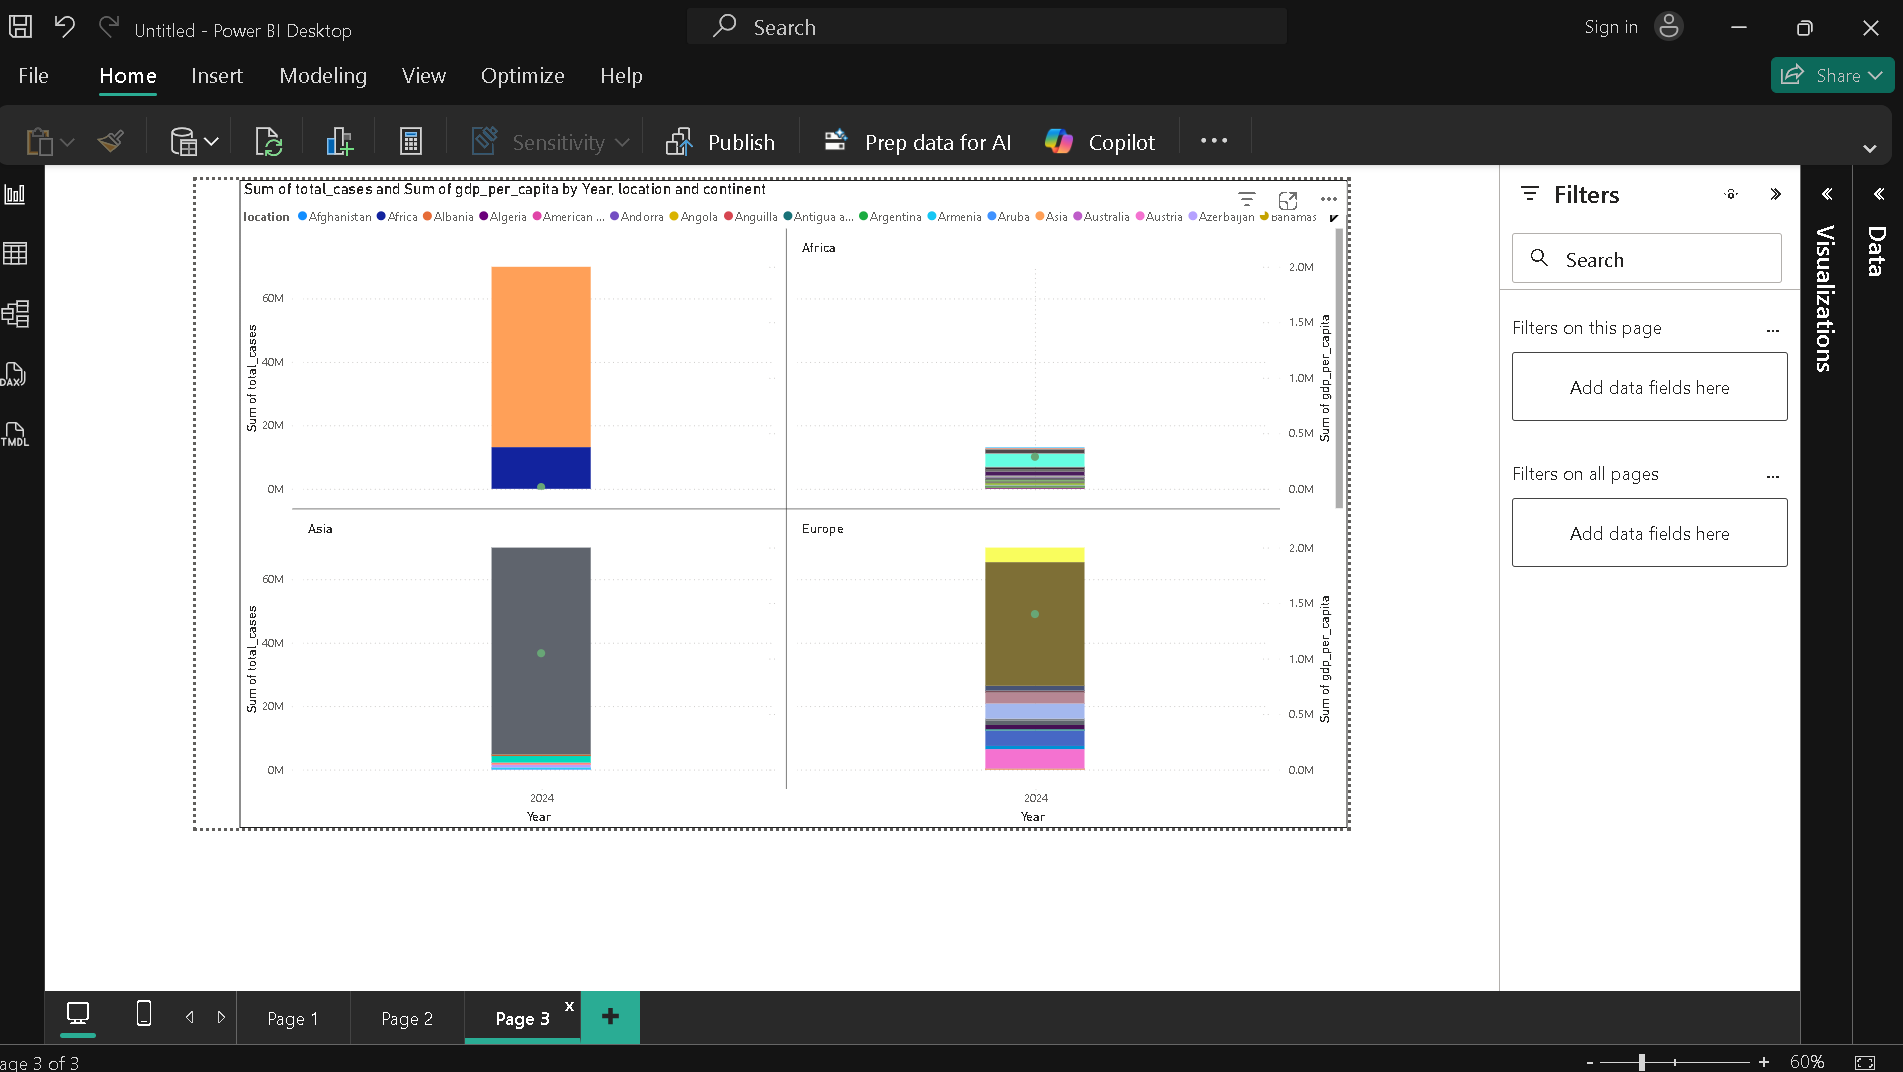

What the dashboard file says about the page in this screenshot:
{"tool":"powerbi","page":{"name":"Page 3","canvas":[1280,720],"ordinal":2},"visuals":[{"type":"lineStackedColumnComboChart","fields":{"Category":["WB_COVID_GDP.last_updated_date.Variation.Date Hierarchy.Year"],"Y":["Sum(WB_COVID_GDP.total_cases)"],"Y2":["Sum(WB_COVID_GDP.gdp_per_capita)"],"Series":["WB_COVID_GDP.location"],"Rows":["WB_COVID_GDP.continent"]},"box":[48.3,0,1231.7,720],"z":0}]}

Visuals, with their boxes on the page's 1280x720 design canvas (x1, y1, x2, y2). These are canvas units, not pixel positions in the 1903x1072 screenshot, which may show the page scaled, cropped or inside an application window:
lineStackedColumnComboChart - WB_COVID_GDP.last_updated_date.Variation.Date Hierarchy.Year x Sum(WB_COVID_GDP.total_cases): bbox=[48, 0, 1280, 720]
